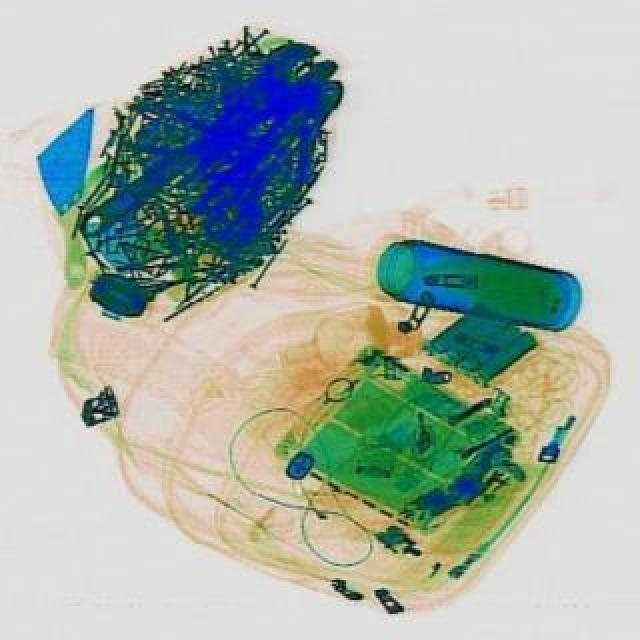scissors: (60, 30, 342, 254)
